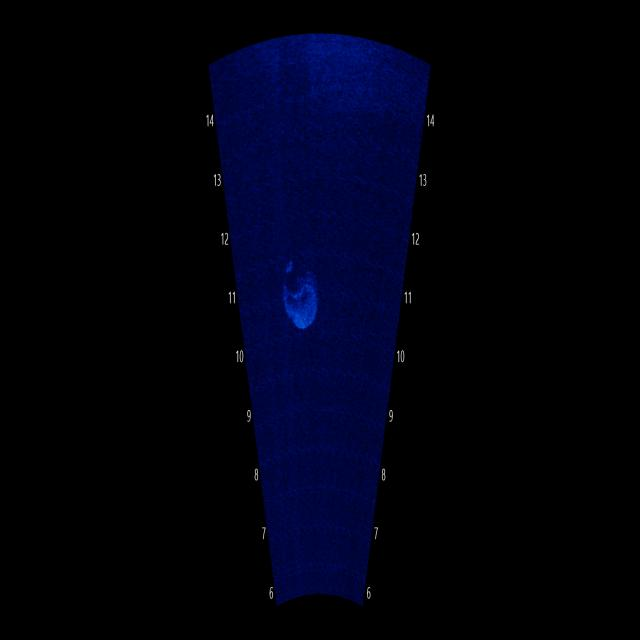circle: (272, 227, 328, 339)
